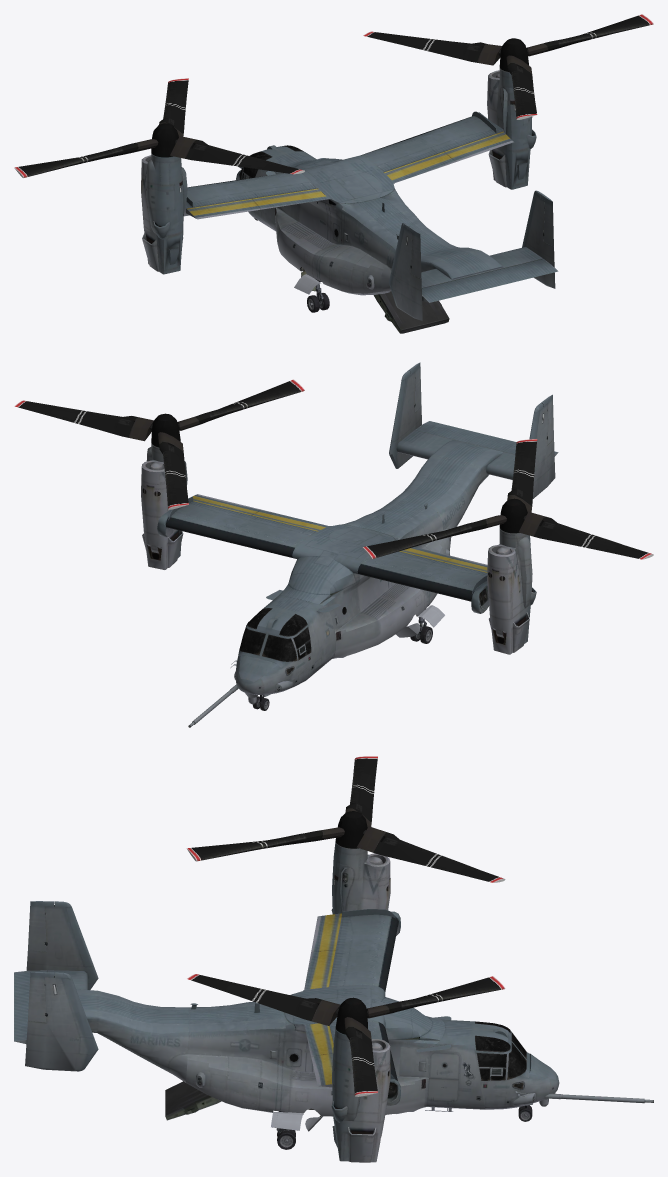
Rendered from v22-osprey.glb.
The picture shows the model from 3 angles, top to bottom: view 1: azimuth 30°, elevation 25°; view 2: azimuth 150°, elevation 25°; view 3: azimuth 270°, elevation 25°; orthographic projection. The views are drawn at different scales.
Parts seen in each view (by area): view 1: Object_4, Object_3; view 2: Object_4, Object_3, Object_2; view 3: Object_4, Object_3, Object_2.
Part boxes in pixels (x1=…): Object_4: x1=183, y1=111, x2=558, y2=333; Object_3: x1=14, y1=14, x2=653, y2=294; Object_4: x1=157, y1=362, x2=558, y2=727; Object_3: x1=14, y1=379, x2=653, y2=694; Object_2: x1=239, y1=607, x2=346, y2=674; Object_4: x1=14, y1=901, x2=653, y2=1149; Object_3: x1=107, y1=756, x2=559, y2=1162; Object_2: x1=289, y1=1021, x2=526, y2=1089.
Bounding box in the file's own units: 964 × 284 × 772.
Materials: 3 (3 with a texture image).
